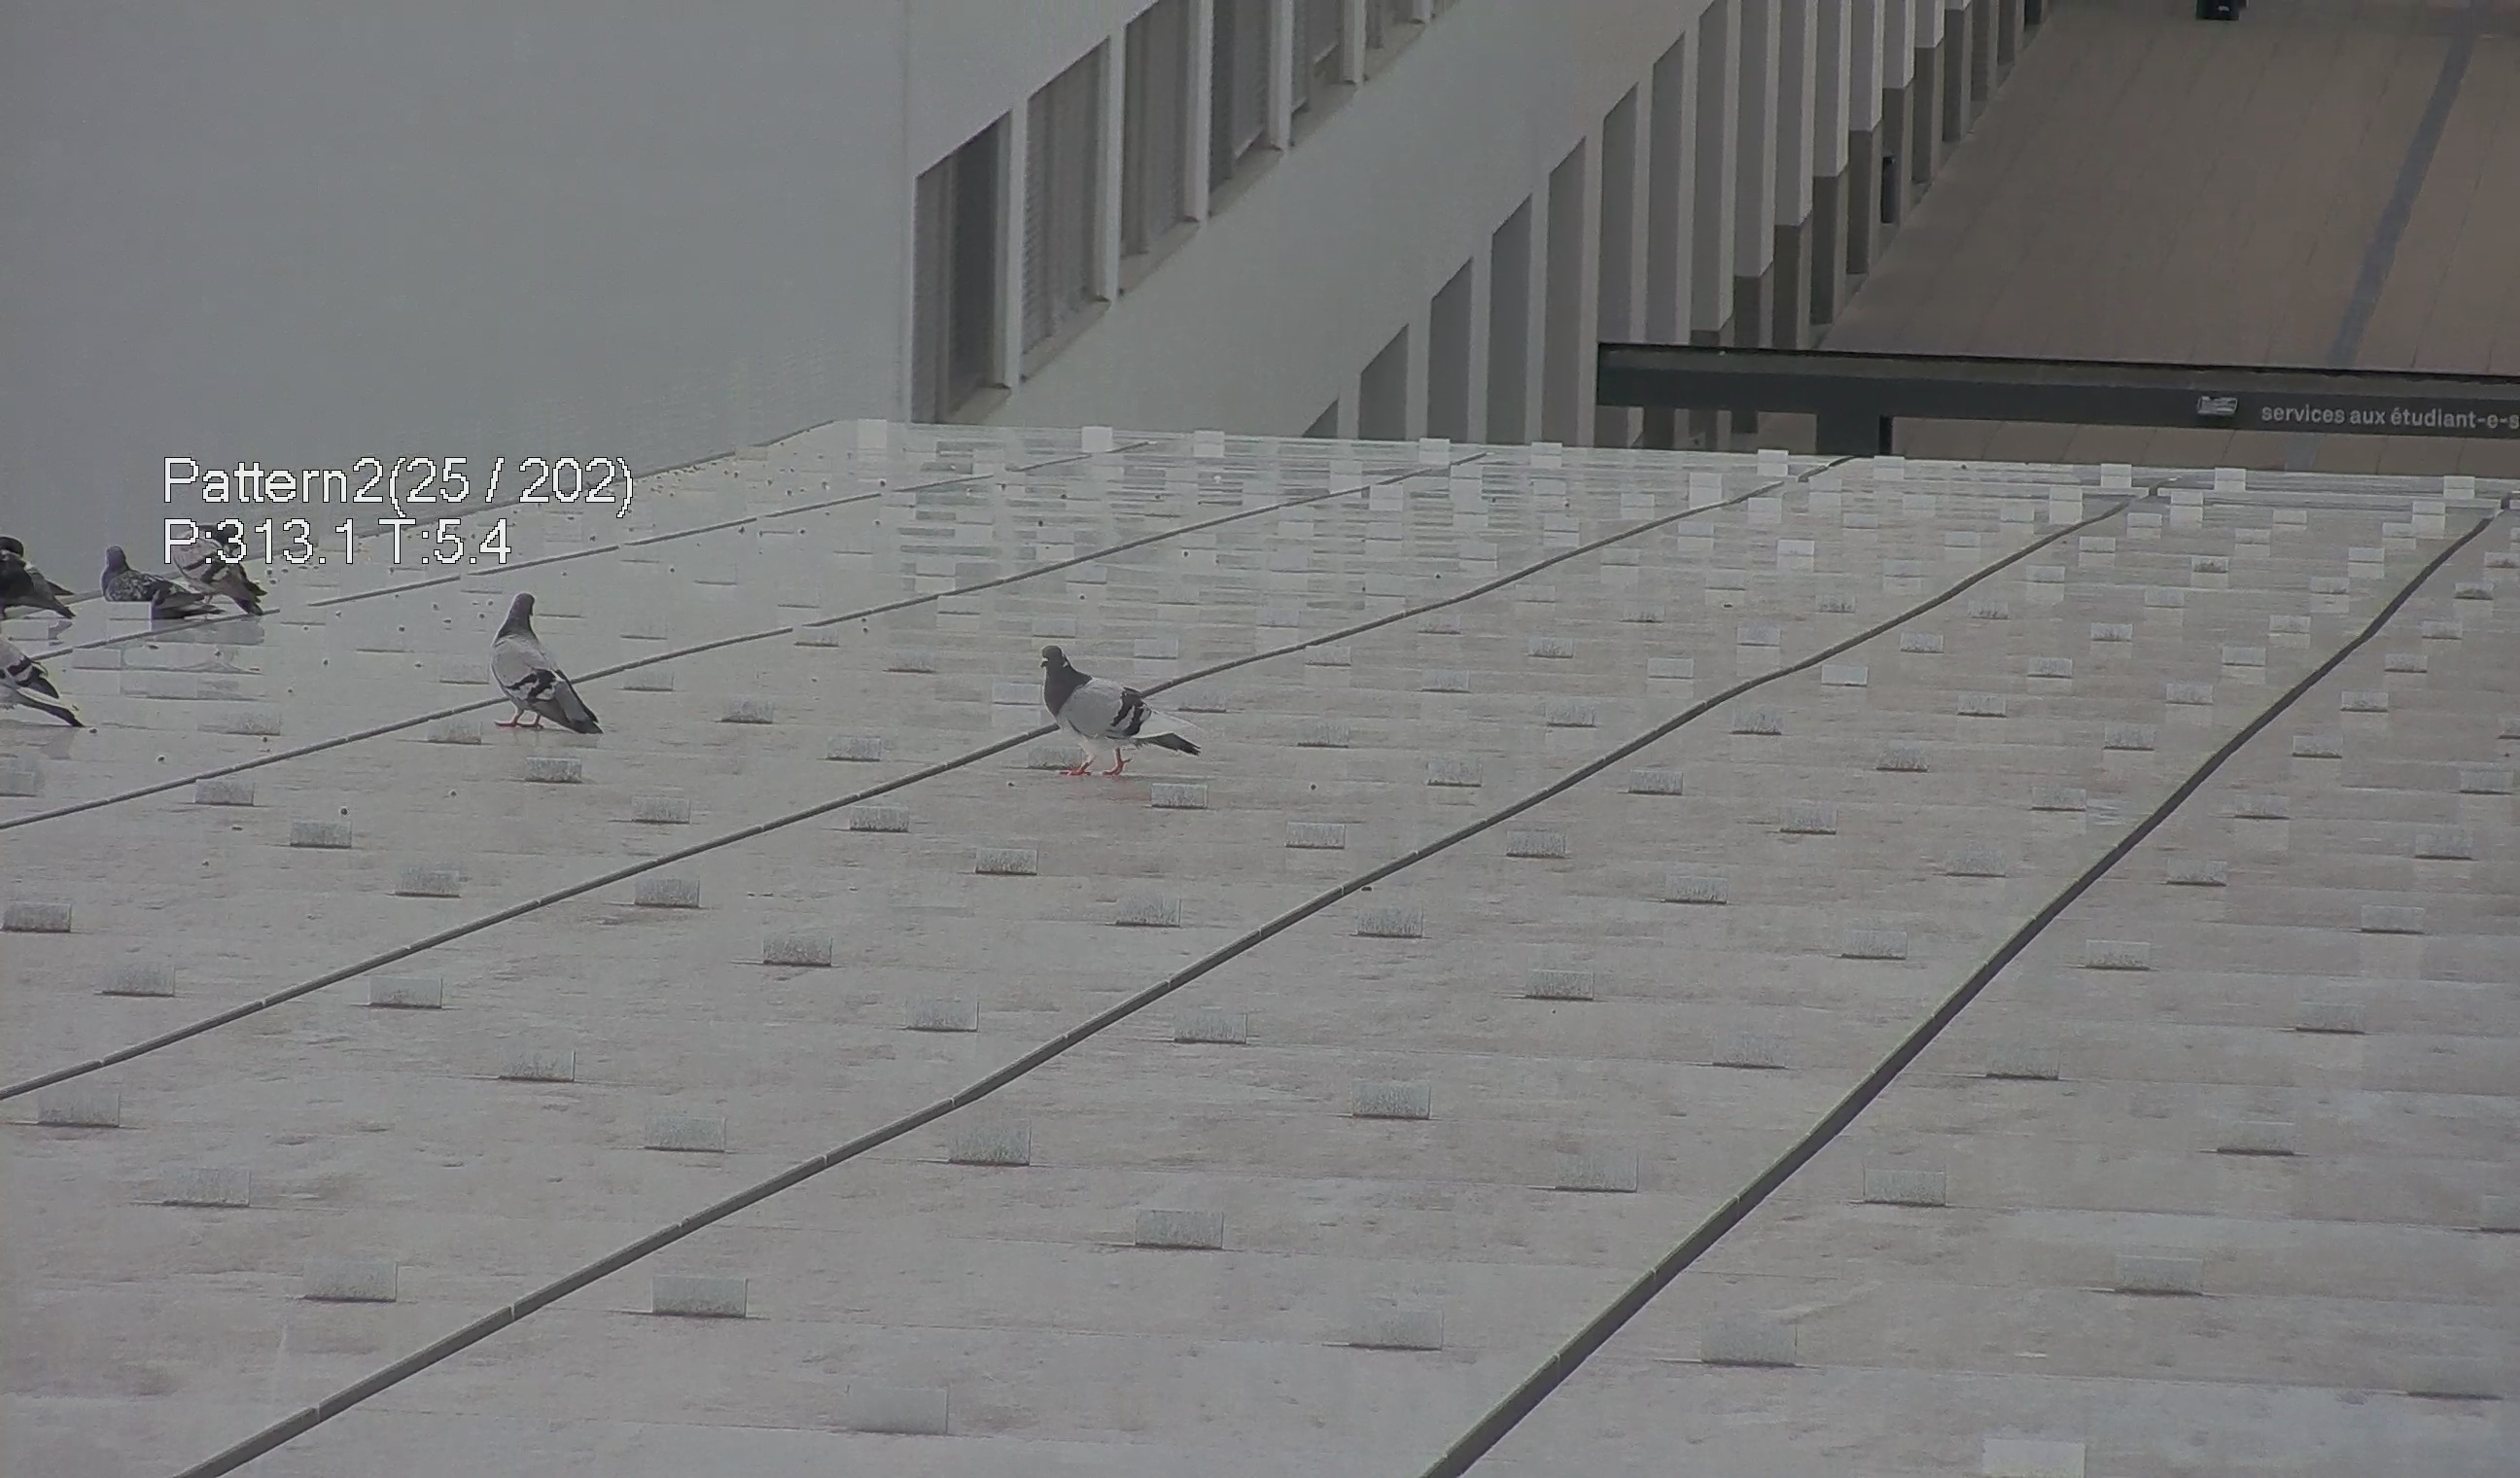Pigeon: (1022, 626, 1206, 779), (471, 588, 610, 751), (97, 523, 274, 633), (2, 625, 88, 723), (2, 528, 86, 619)
